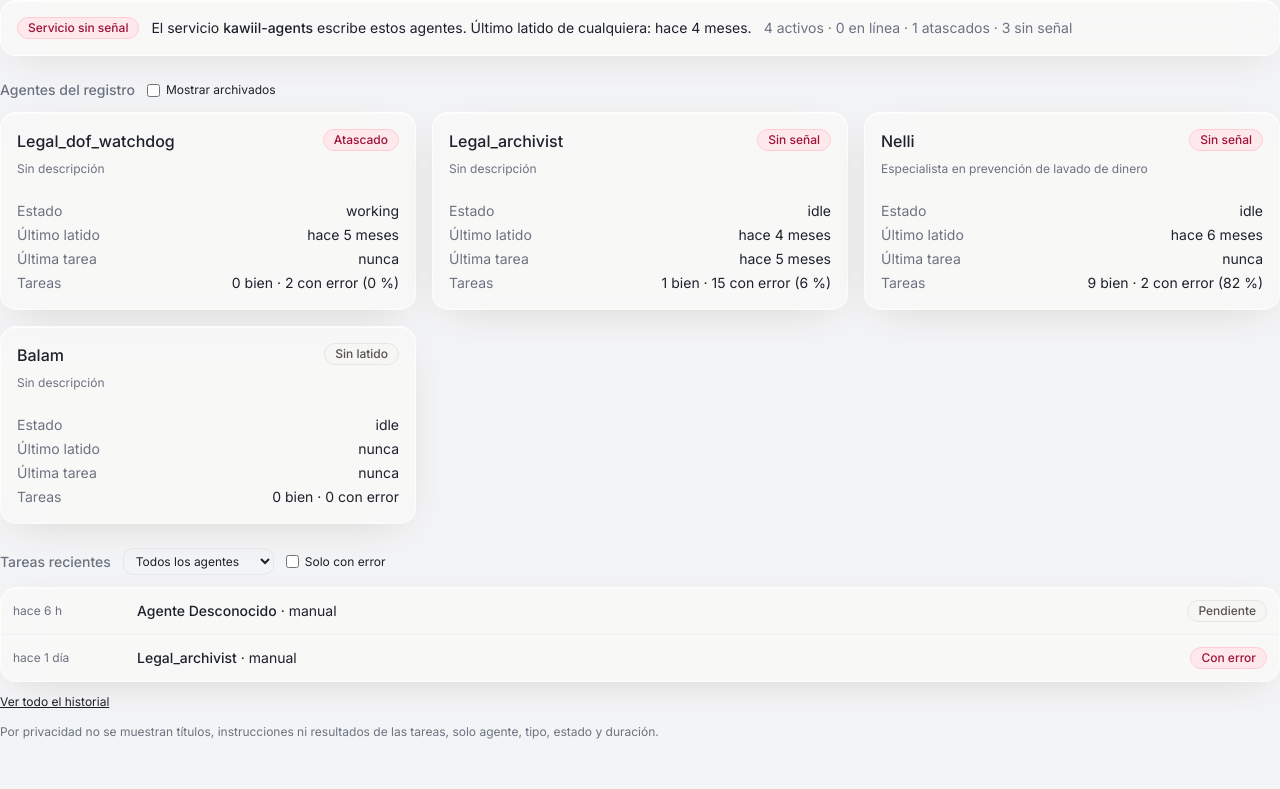
Test case: vista AgentesRegistro › la lista de tareas parte de 30 días y 'Ver todo el historial' la amplía
Check: the list item with test id "tarea-t3" shows "Con error", box [1201, 650, 1256, 665]
Click the button "Ver todo el historial" at (55, 702), box [0, 694, 109, 710]
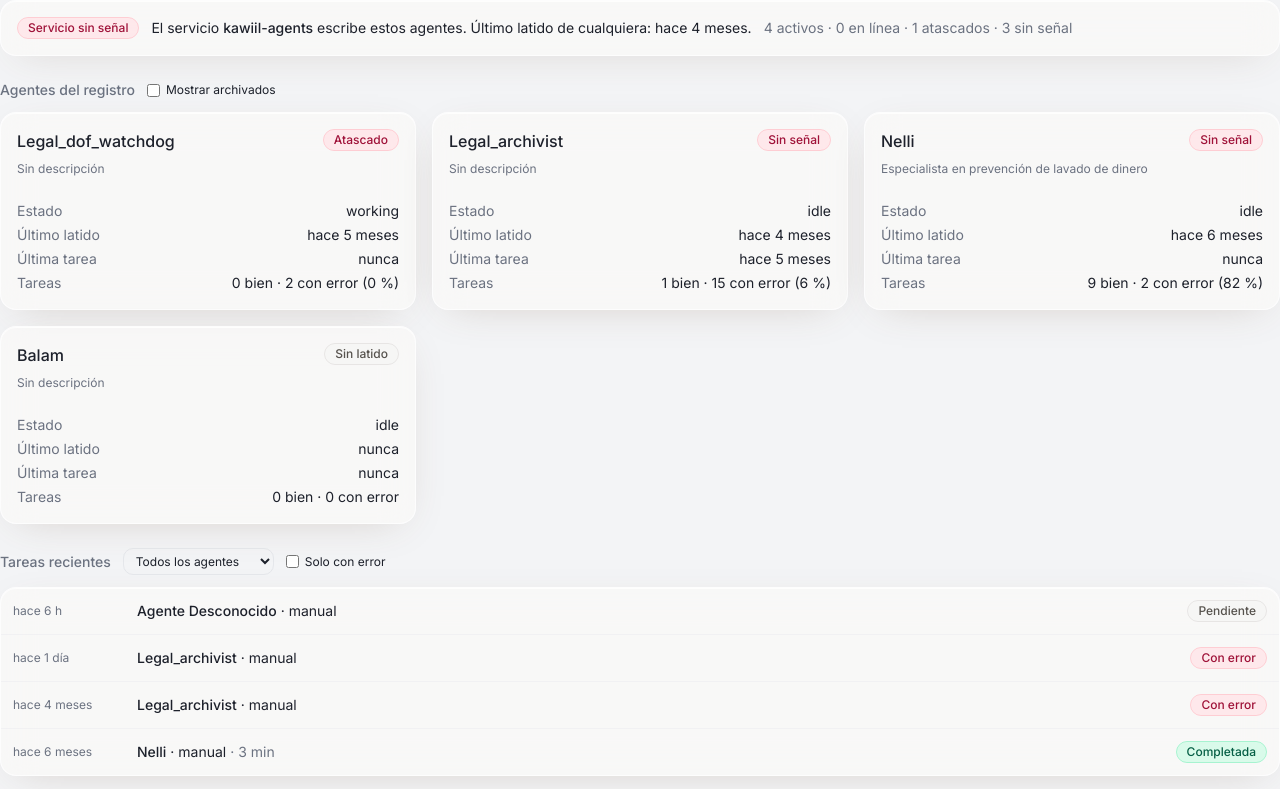
Check: the list item with test id "tarea-t2" shows "3 min", box [238, 743, 275, 760]
